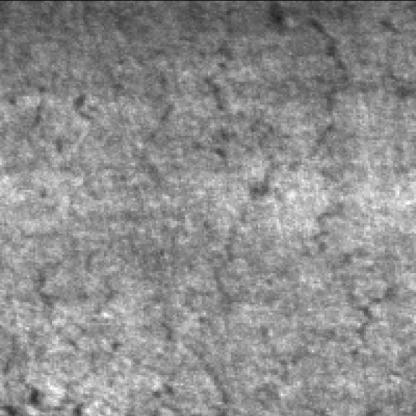crazing: (202, 2, 374, 408), (20, 93, 170, 416)
